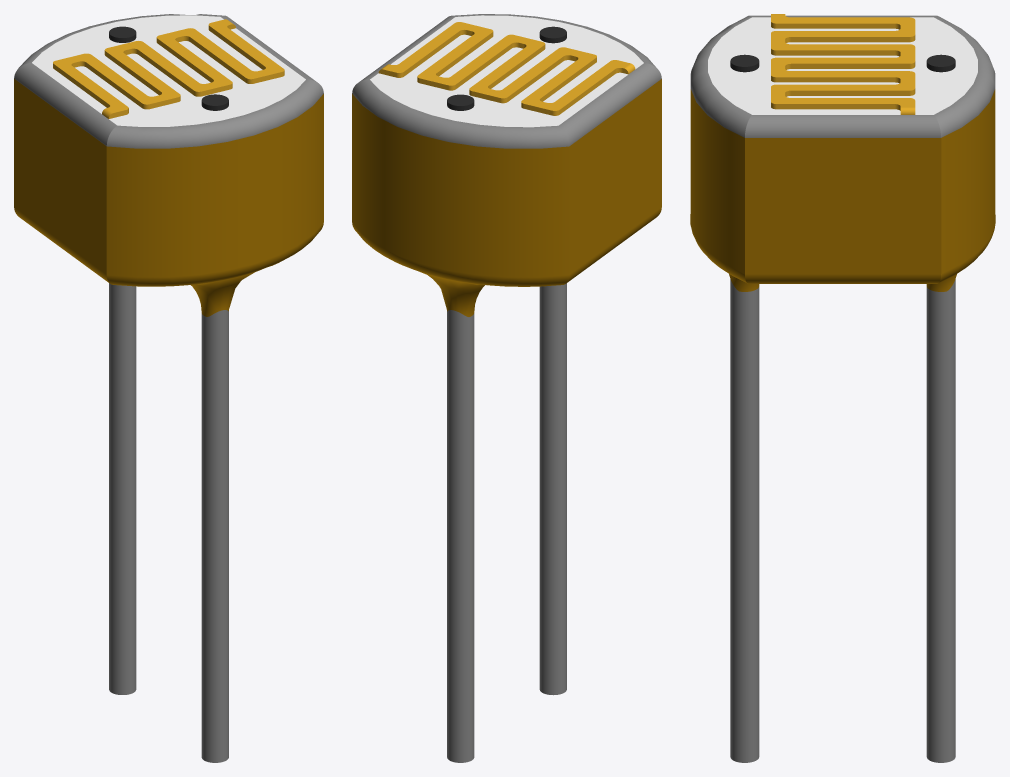
The model's file is LDR.fbx.
The picture shows the model from 3 angles, left to right: view 1: azimuth 30°, elevation 25°; view 2: azimuth 150°, elevation 25°; view 3: azimuth 270°, elevation 25°; orthographic projection. The views are drawn at different scales.
Parts seen in each view (by area): view 1: LDR; view 2: LDR; view 3: LDR.
Part boxes in pixels (x1=…): LDR: x1=14, y1=14, x2=323, y2=762; LDR: x1=352, y1=14, x2=661, y2=762; LDR: x1=690, y1=14, x2=995, y2=762.
Size of the model in its own units: 0.46 by 1.33 by 0.5293.
